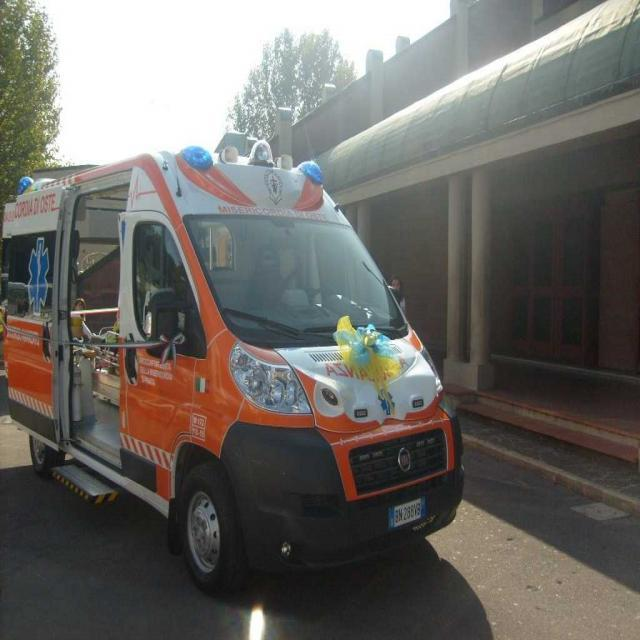emergency-vehicle: (4, 136, 468, 602)
